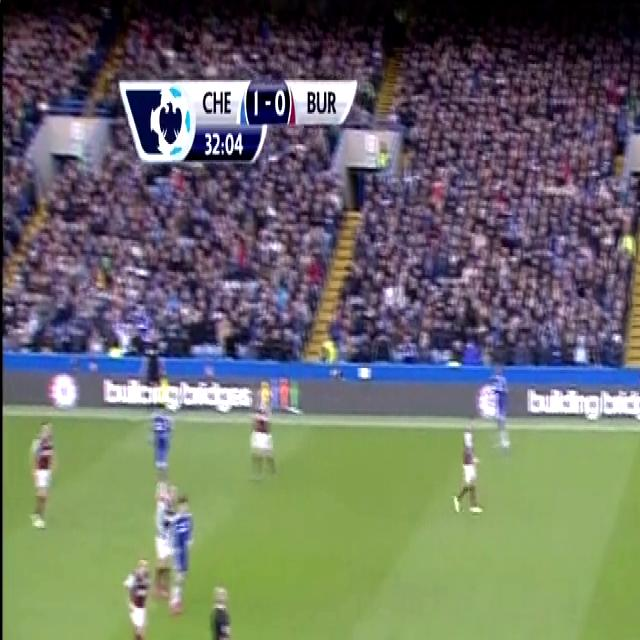referee: (203, 569, 243, 640), (133, 332, 166, 416)
soccer-player: (24, 410, 64, 541), (160, 480, 198, 616), (449, 416, 489, 525), (240, 384, 282, 486), (477, 357, 516, 463), (115, 546, 155, 640), (146, 395, 180, 496)
